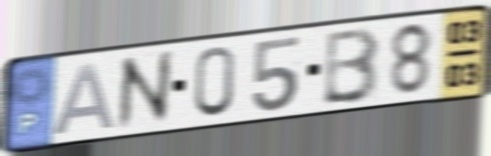0: (192, 45, 238, 120)
5: (249, 33, 303, 114)
8: (388, 21, 436, 98)
A: (49, 60, 119, 138)
B: (319, 24, 382, 108)
N: (115, 47, 174, 134)
